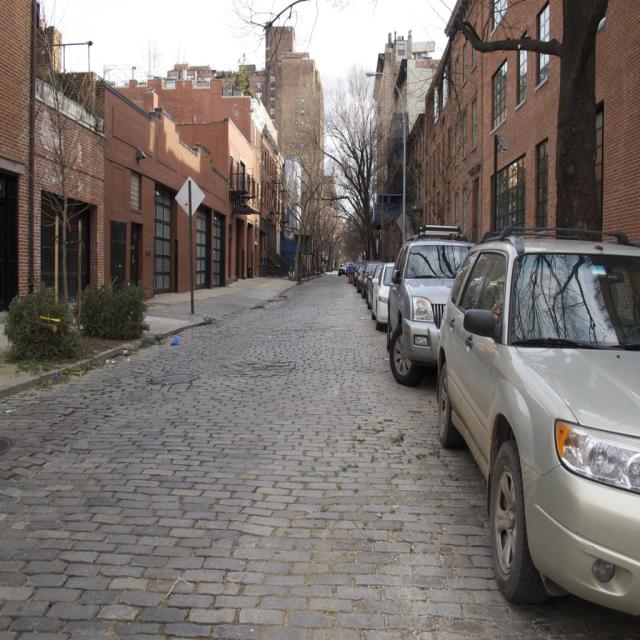car: (429, 231, 639, 618)
